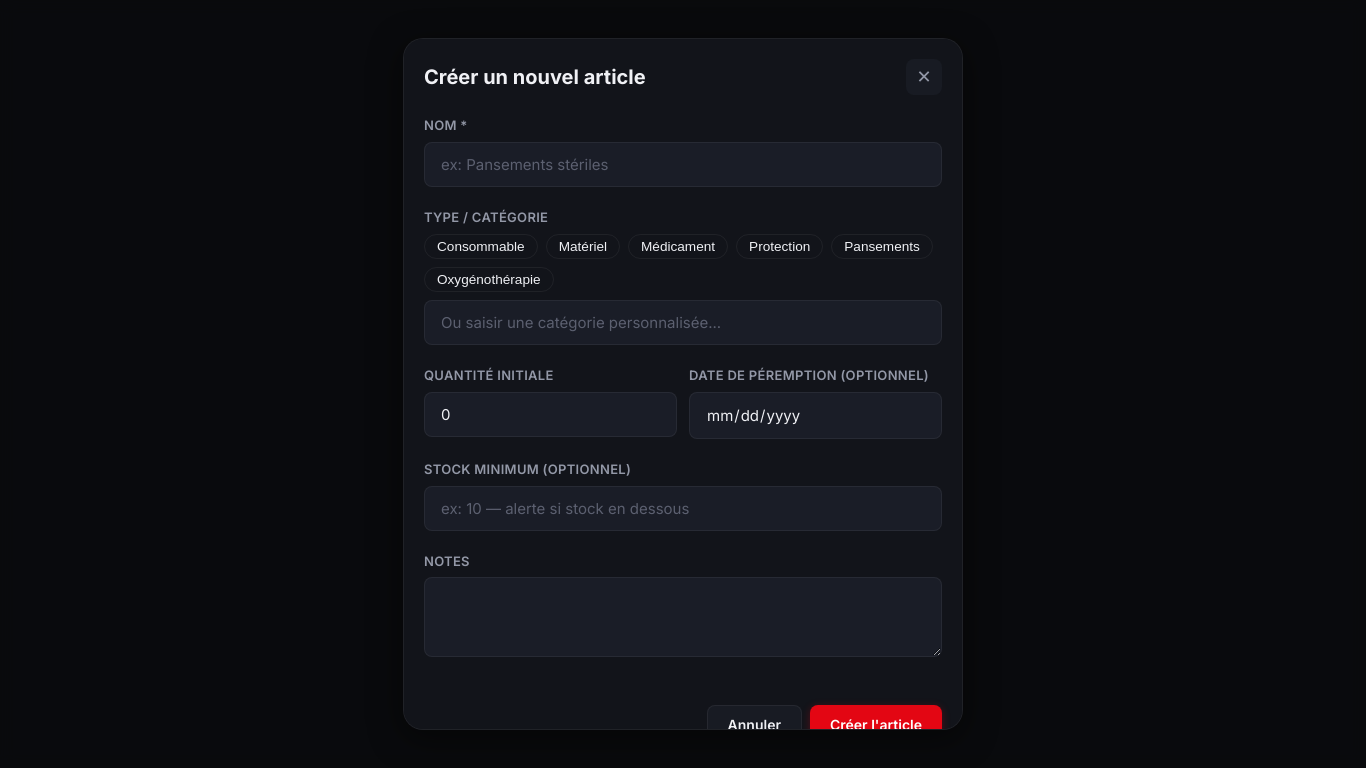
Test: AddItemModal › désactive le champ date de péremption tant que la quantité est à 0
Check: the date field is disabled, box [689,392,942,439]
Replace the text in the 1st number field with "5". click: (550, 414)
box: [424,392,677,437]
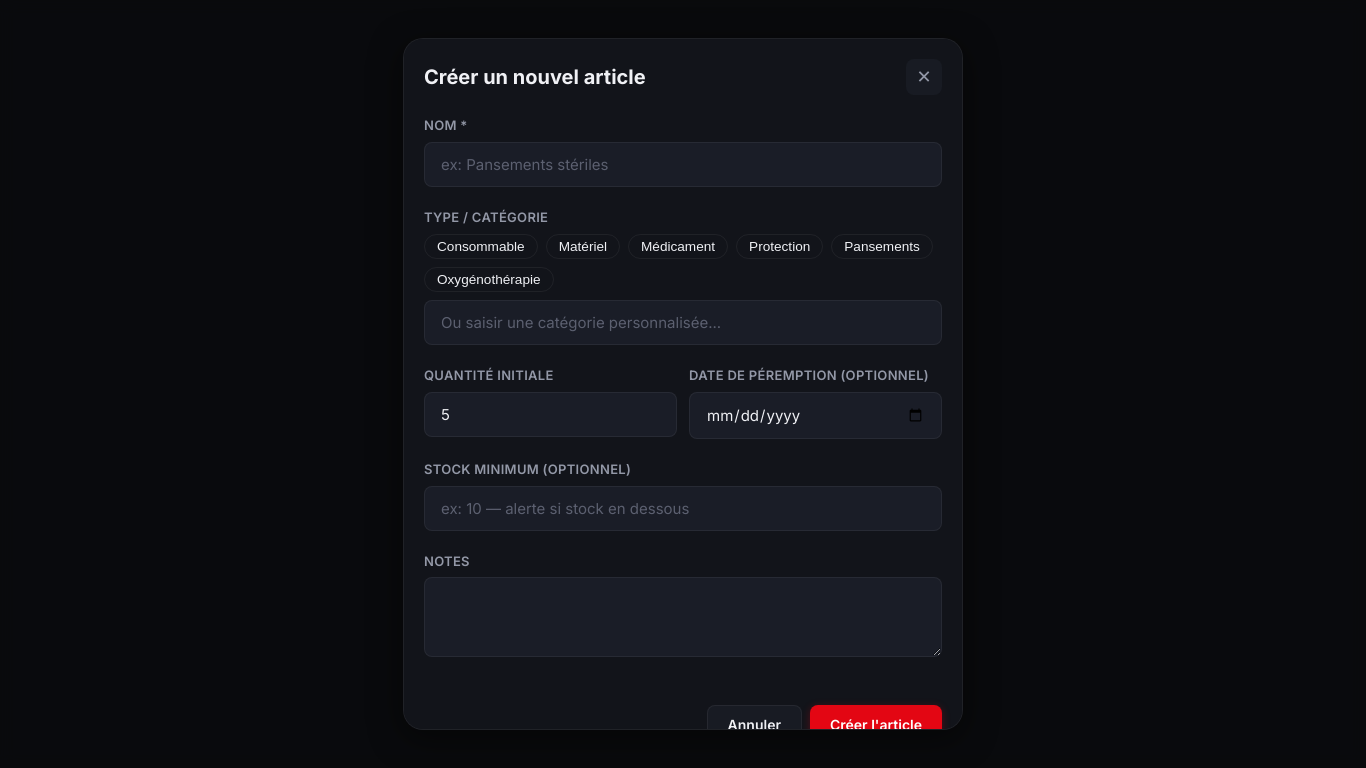
Check: the date field is enabled, box [689,392,942,439]
